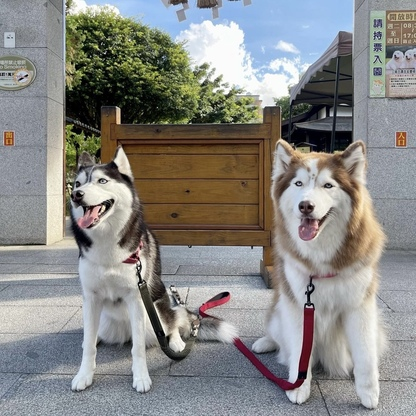husky: (57, 144, 248, 400), (249, 127, 397, 413)
